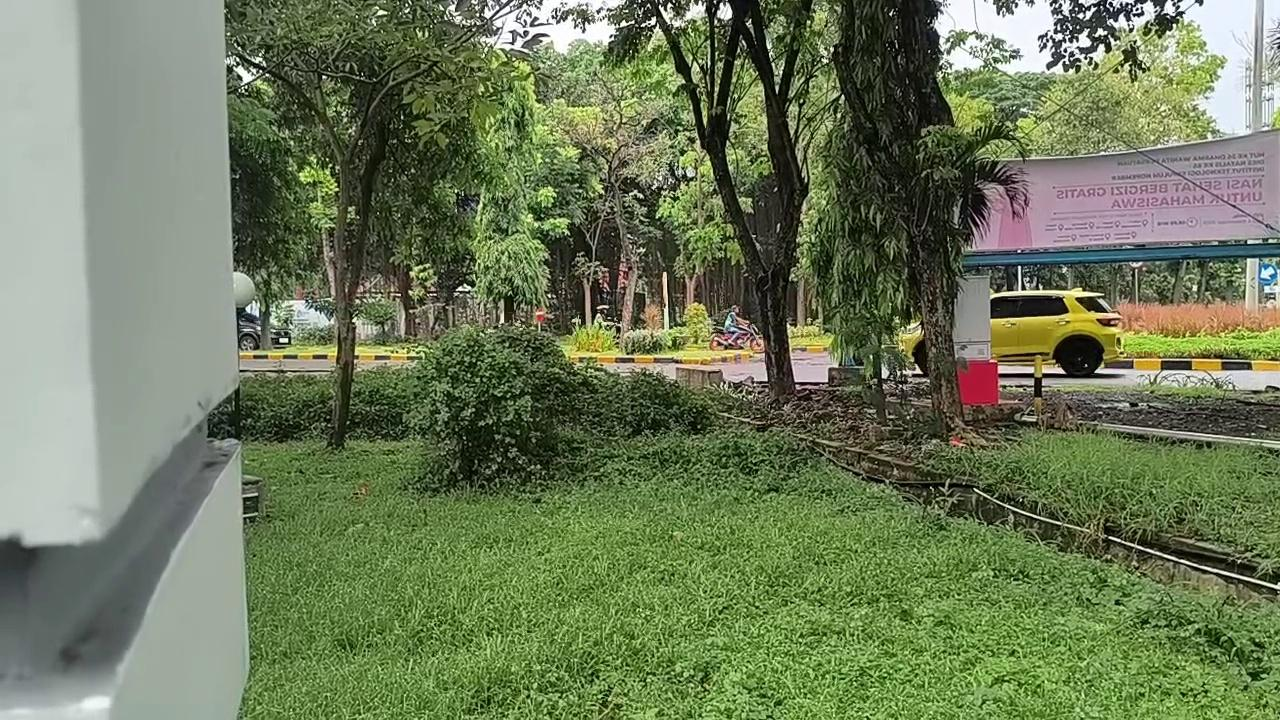Motor: (710, 325, 764, 352)
